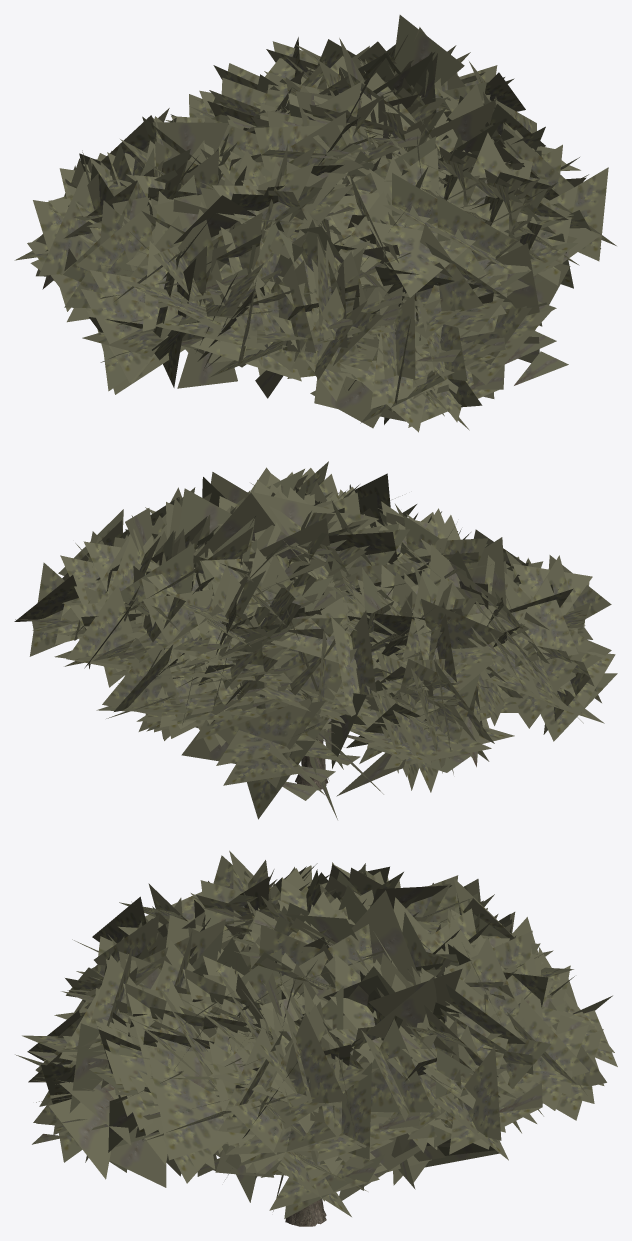
The model's file is Acacia_Tortilis_Autumn_Adult.glb.
The picture shows the model from 3 angles, top to bottom: view 1: azimuth 30°, elevation 25°; view 2: azimuth 150°, elevation 25°; view 3: azimuth 270°, elevation 25°; orthographic projection. The views are drawn at different scales.
Visible parts, largest first — view 1: Acacia_Tortilis_Autumn_Adult__LOD3; view 2: Acacia_Tortilis_Autumn_Adult__LOD3; view 3: Acacia_Tortilis_Autumn_Adult__LOD3.
Part boxes in pixels (x1=…): Acacia_Tortilis_Autumn_Adult__LOD3: x1=14, y1=15, x2=616, y2=432; Acacia_Tortilis_Autumn_Adult__LOD3: x1=14, y1=461, x2=617, y2=819; Acacia_Tortilis_Autumn_Adult__LOD3: x1=15, y1=850, x2=617, y2=1226.
Bounding box in the file's own units: 37.18 × 22.62 × 36.03.
Materials: 2 (2 with a texture image).
